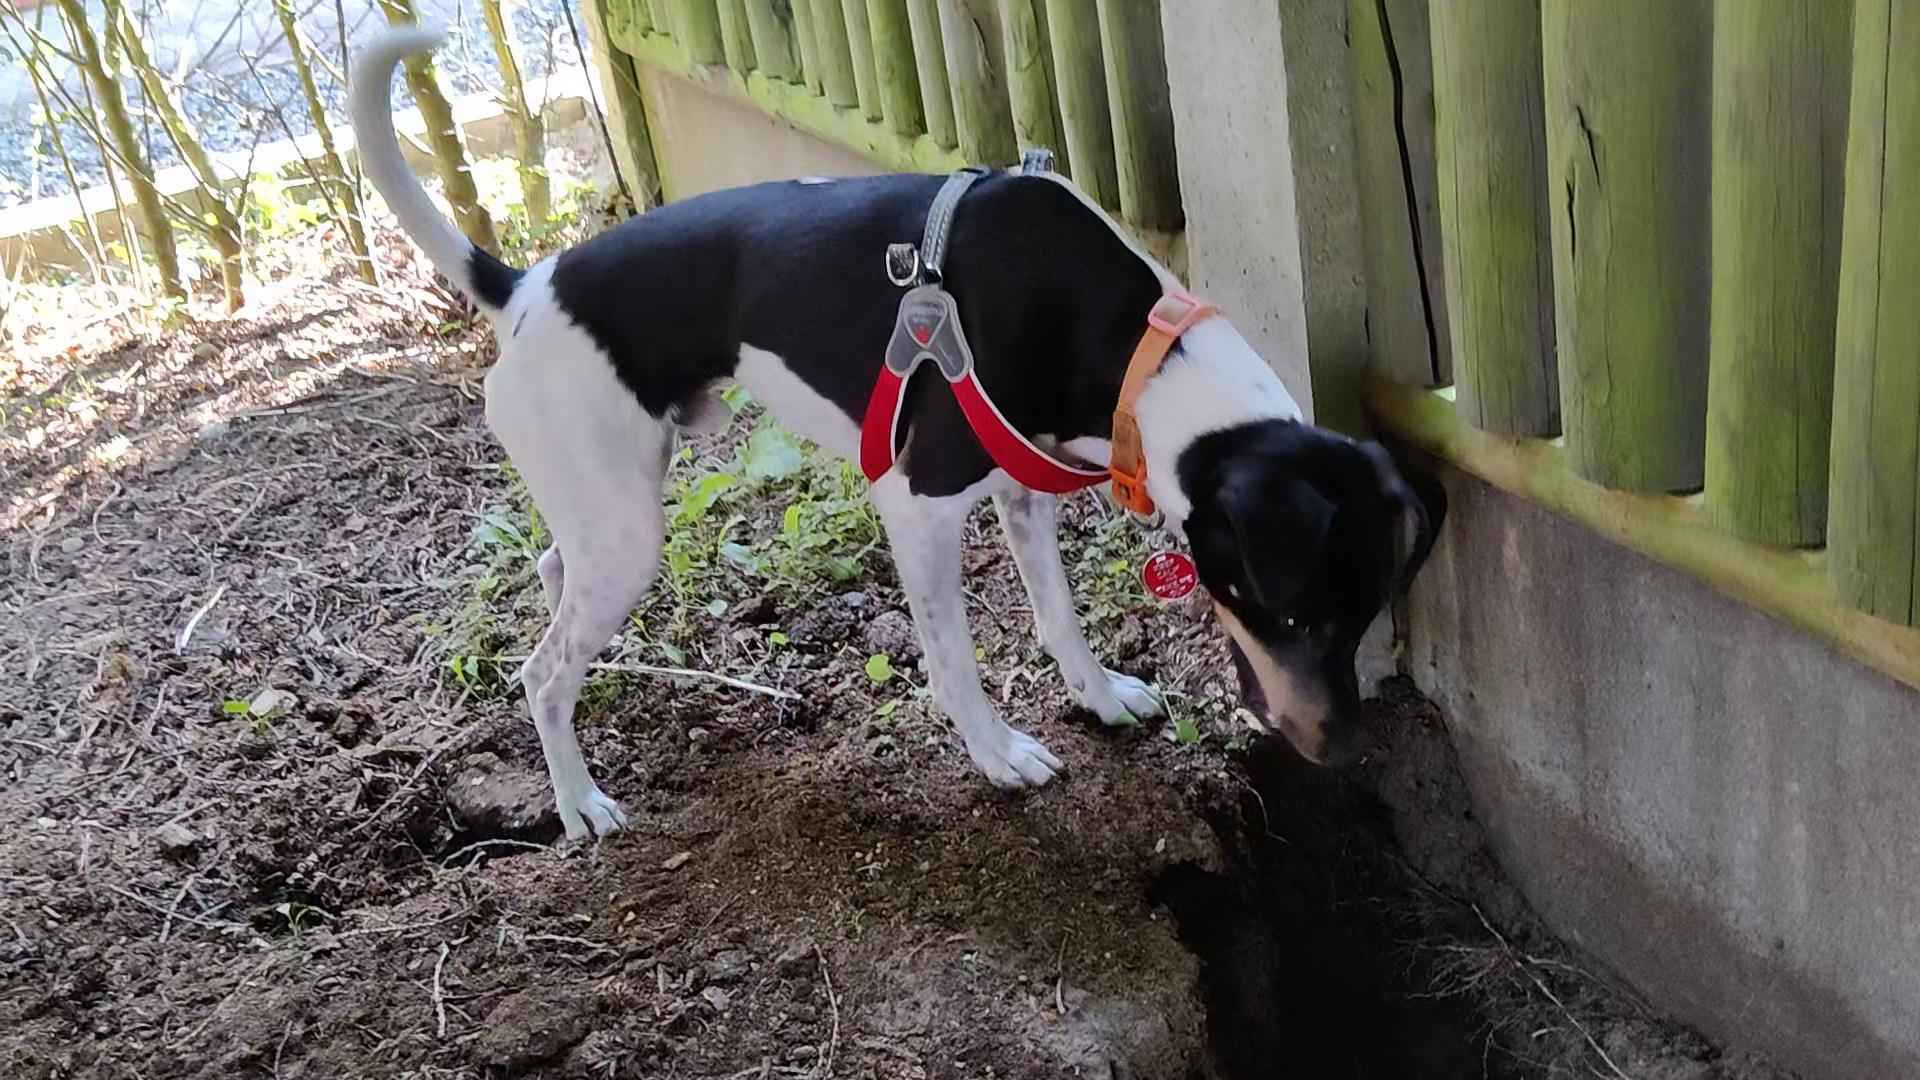Dog: (326, 8, 1465, 852)
